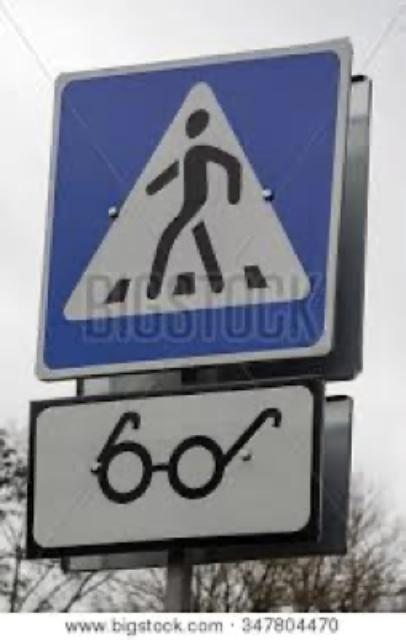crosswalk-sign: (35, 38, 361, 382)
